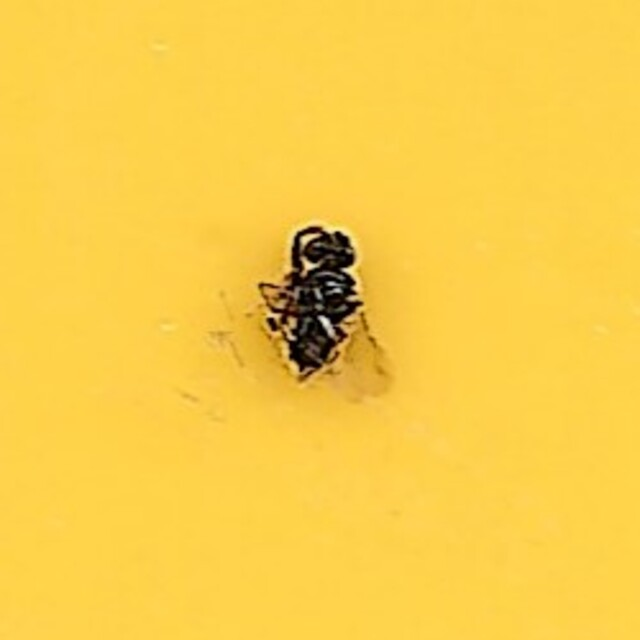Brachycera: (256, 227, 384, 413)
